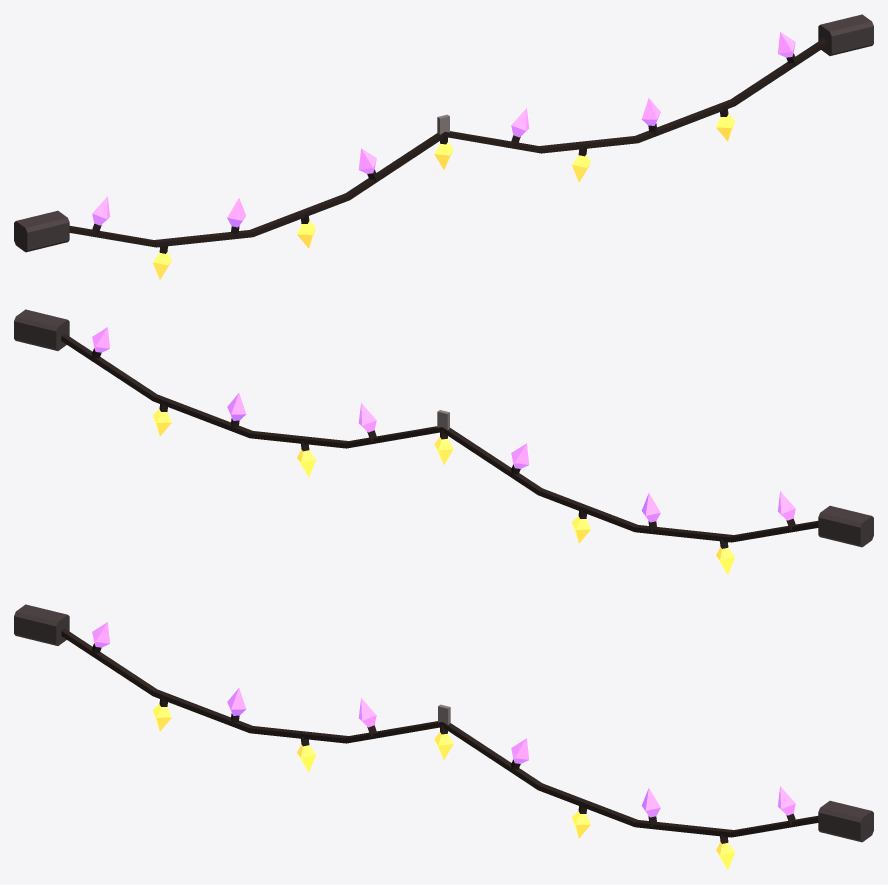
File: orange-and-purple-string-1fbdab.glb
3 renders of one model, top to bottom at view 1: azimuth 30°, elevation 25°; view 2: azimuth 150°, elevation 25°; view 3: azimuth 330°, elevation 25°, orthographic.
Visible parts, largest first — view 1: wire, plugs-and-clips, bulbs-purple, bulbs-orange; view 2: wire, plugs-and-clips, bulbs-purple, bulbs-orange; view 3: wire, plugs-and-clips, bulbs-purple, bulbs-orange.
Boxes of the visible parts, x1,y1,x2,y2 form: wire: (69, 38, 826, 253); plugs-and-clips: (14, 14, 873, 252); bulbs-purple: (92, 32, 795, 227); bulbs-orange: (153, 114, 735, 279); wire: (61, 333, 818, 548); plugs-and-clips: (14, 309, 873, 547); bulbs-purple: (92, 327, 795, 522); bulbs-orange: (152, 409, 734, 574); wire: (61, 628, 818, 843); plugs-and-clips: (14, 604, 873, 842); bulbs-purple: (92, 622, 795, 817); bulbs-orange: (152, 704, 734, 869).
Bounding box in the file's own units: 4 × 0.4606 × 0.11.
